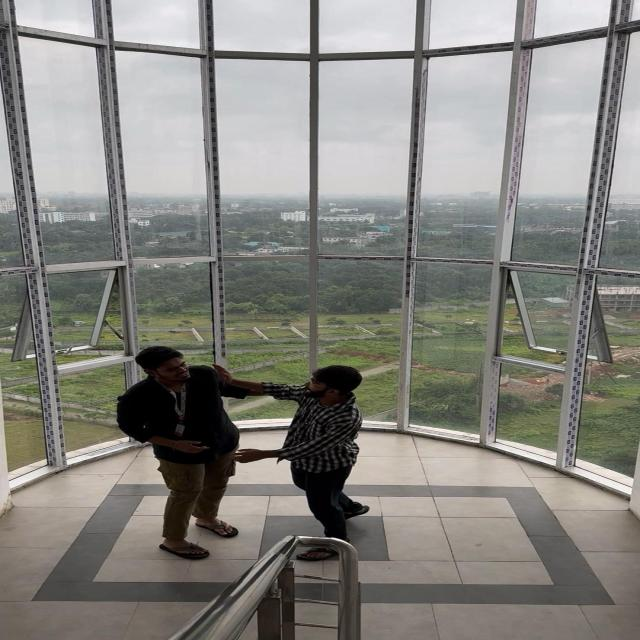fight: (97, 342, 420, 571)
